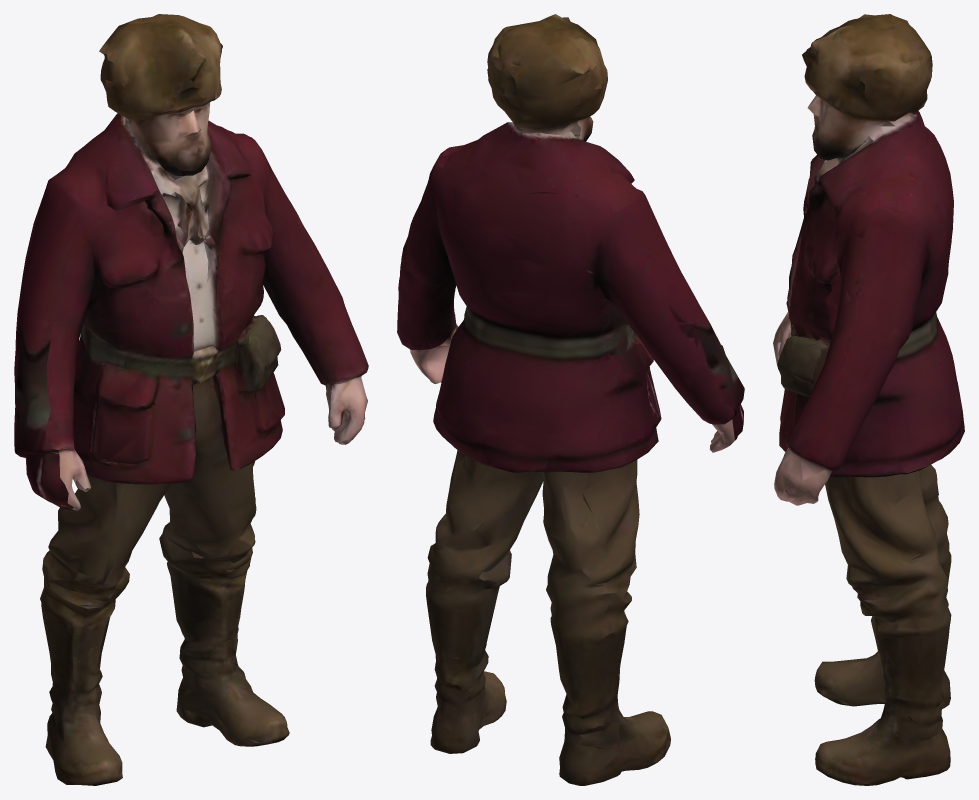
The model's file is trader.phone.glb.
The picture shows the model from 3 angles, left to right: view 1: azimuth 30°, elevation 25°; view 2: azimuth 150°, elevation 25°; view 3: azimuth 270°, elevation 25°; orthographic projection. The views are drawn at different scales.
Parts seen in each view (by area): view 1: trader; view 2: trader; view 3: trader.
Part boxes in pixels (box(x1,y1,x2,y2)): trader: box(14, 14, 368, 785); trader: box(397, 14, 744, 785); trader: box(773, 14, 964, 785).
Size of the model in its own units: 0.8869 by 1.8 by 0.4384.
Materials: 1 (1 with a texture image).
